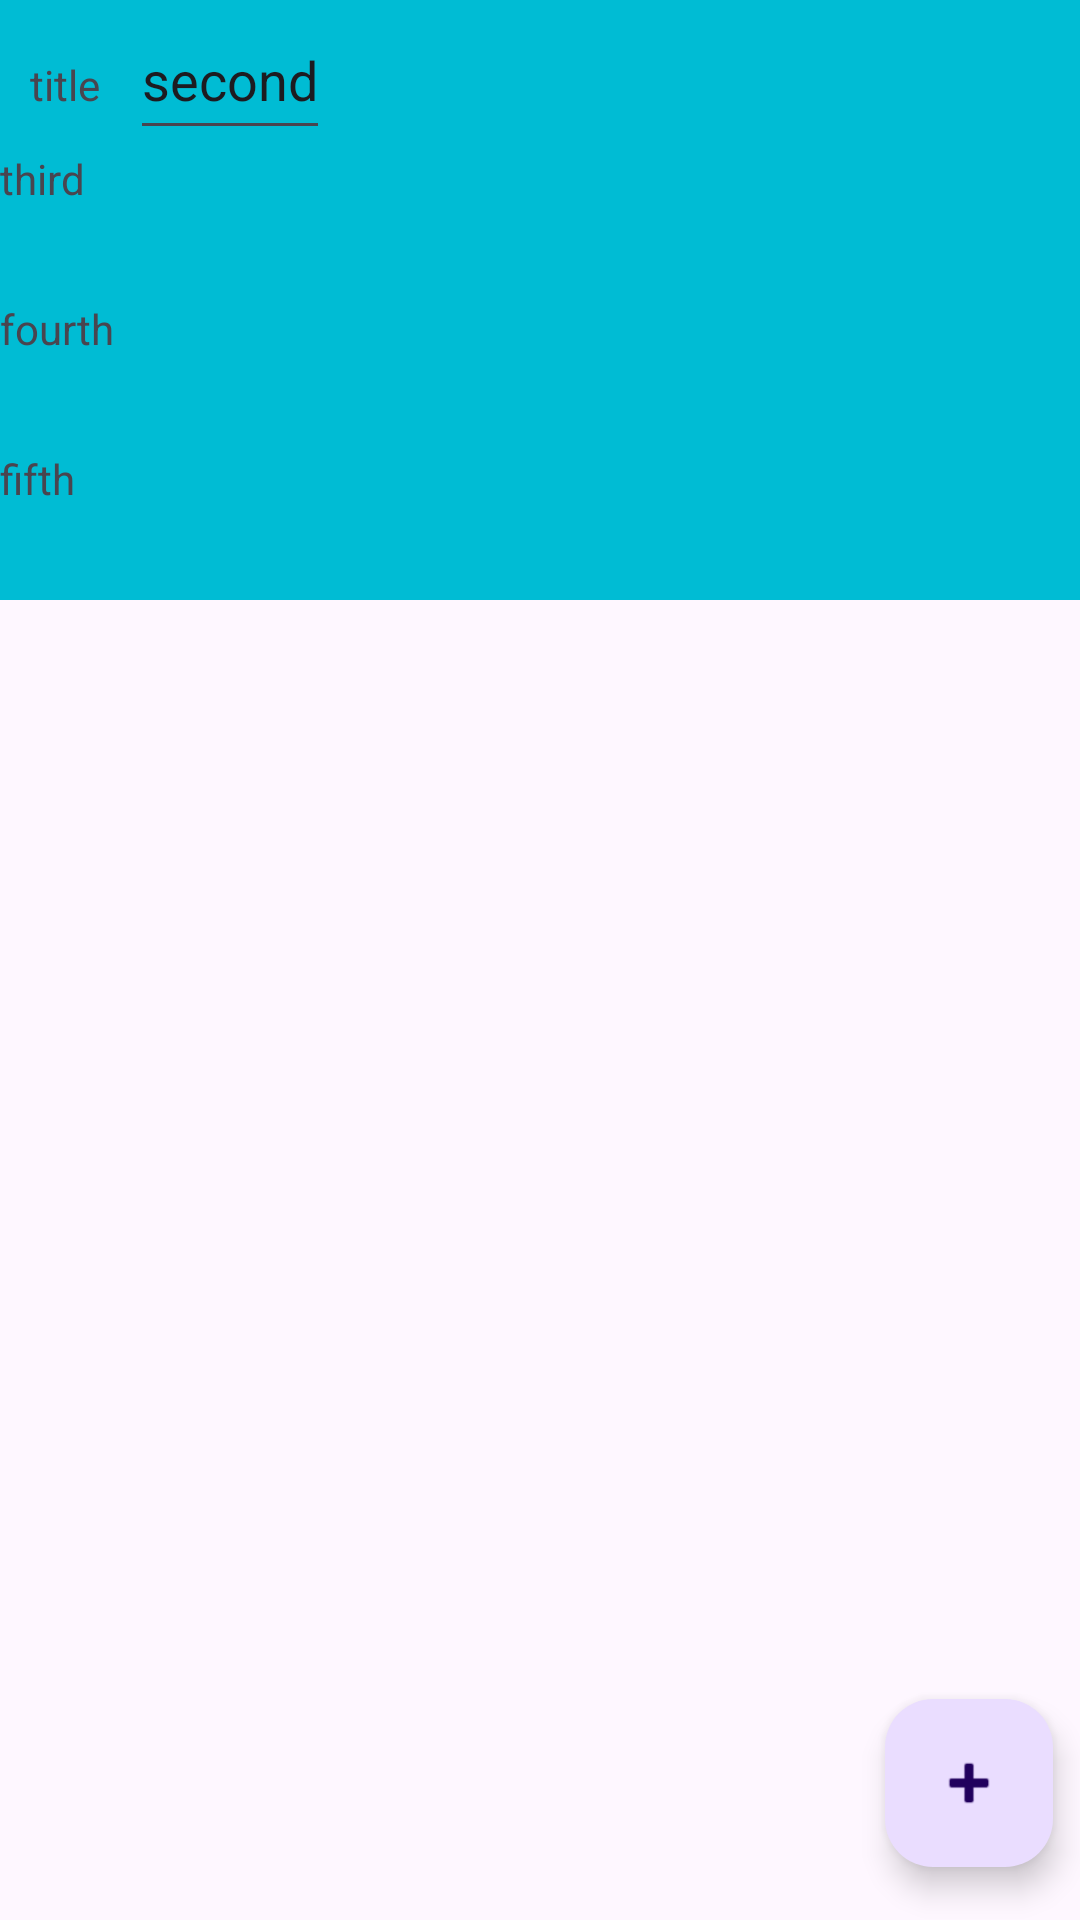

Where icons sit on this 1080x1920 app screen, as (x1, y1, x2, y2):
add: (885, 1699, 1053, 1867)
